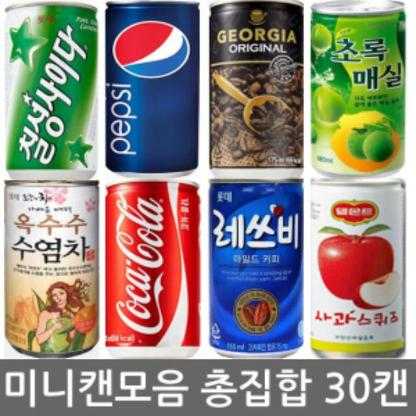Can: (102, 175, 204, 356), (307, 0, 407, 178), (102, 0, 200, 180), (3, 2, 99, 182), (3, 178, 97, 357)
